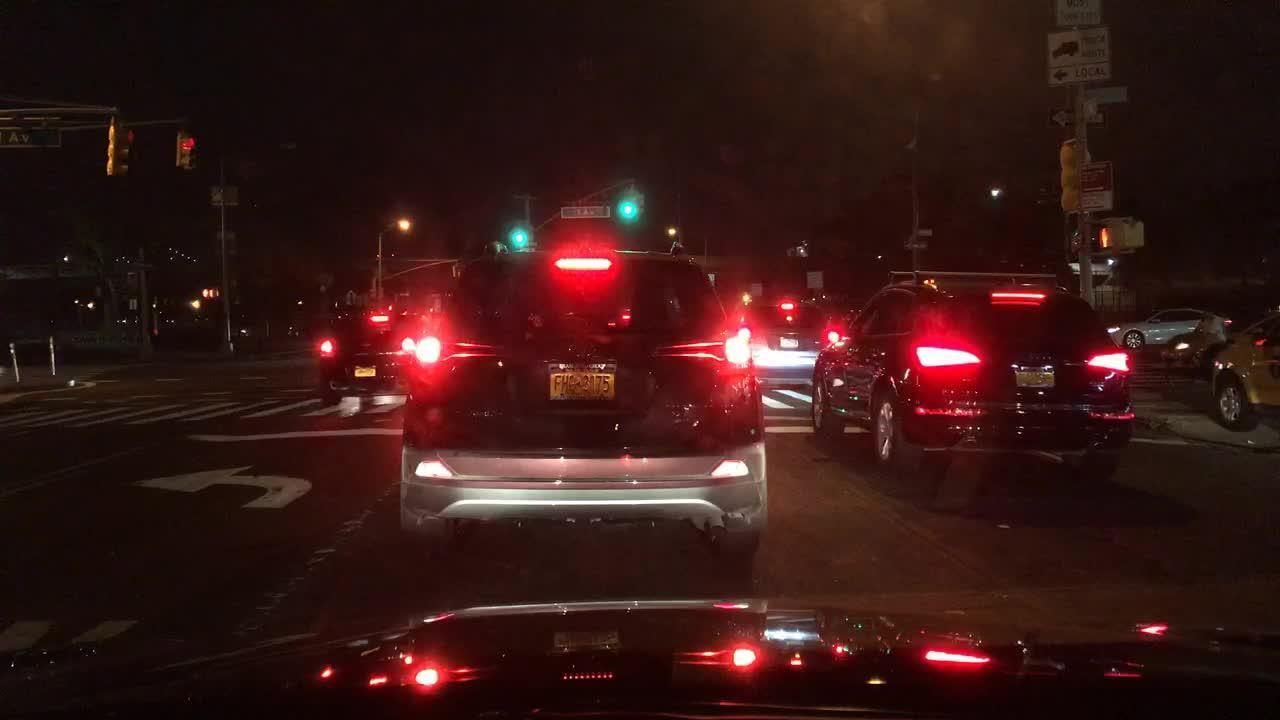Audi: (1017, 343, 1063, 367)
Hyundai: (561, 330, 605, 365)
